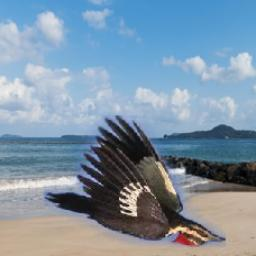Woodpecker: (44, 115, 226, 247)
